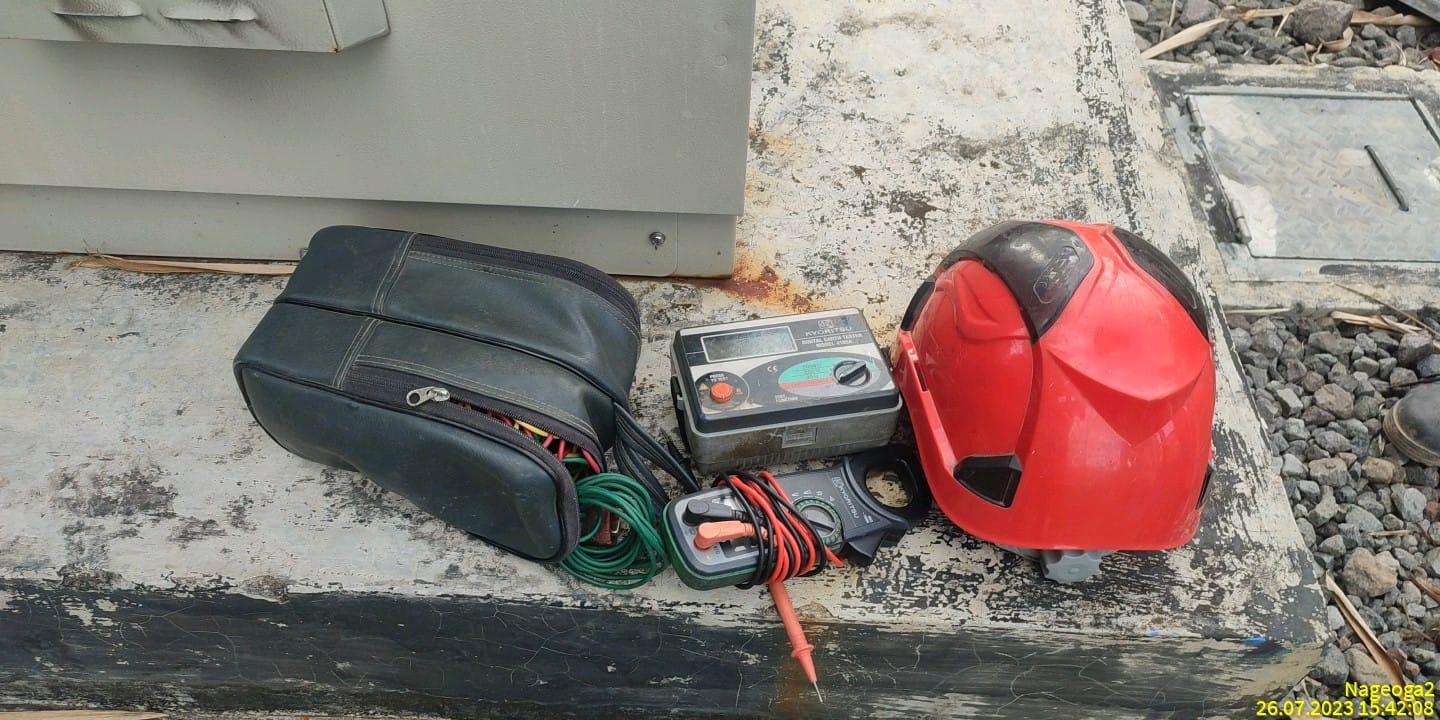EARTH_GROUNDING_TESTER: (665, 308, 903, 467)
